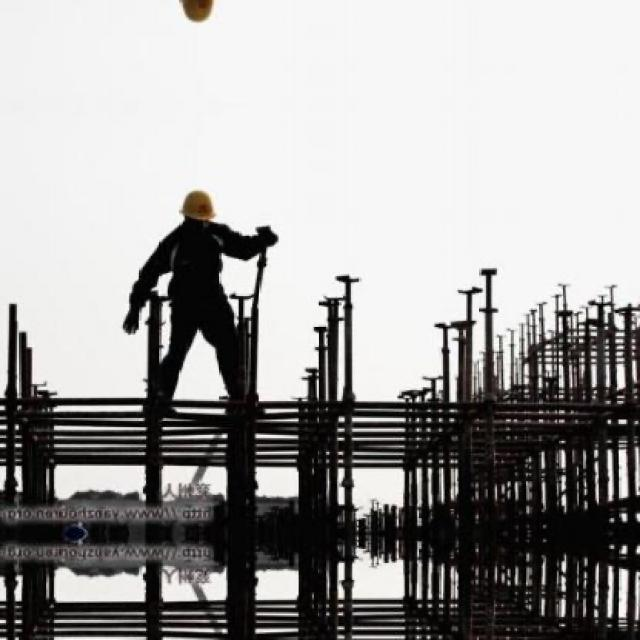helmet: (177, 184, 220, 228), (175, 0, 220, 31)
